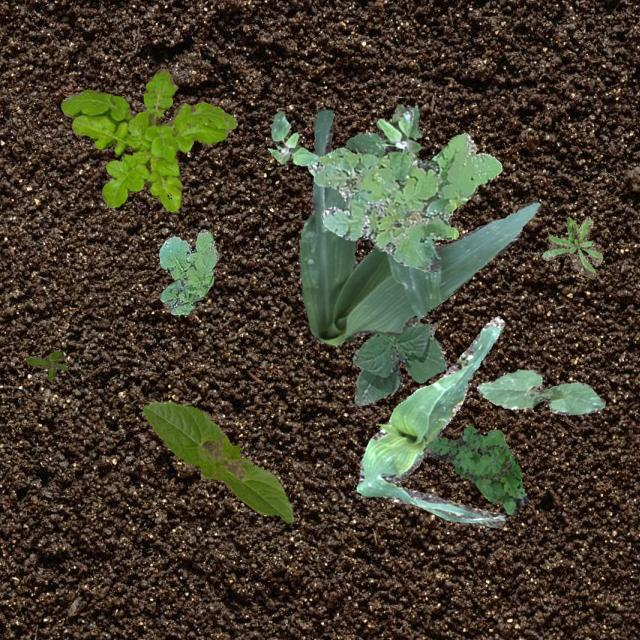crop: (298, 108, 540, 344), (356, 316, 504, 526), (142, 400, 292, 522), (352, 320, 446, 404), (476, 368, 604, 414)
weed: (306, 132, 500, 272), (59, 68, 236, 210), (422, 424, 526, 514), (344, 104, 422, 180), (158, 228, 218, 314), (540, 215, 602, 278), (266, 110, 318, 164), (24, 350, 66, 380)
